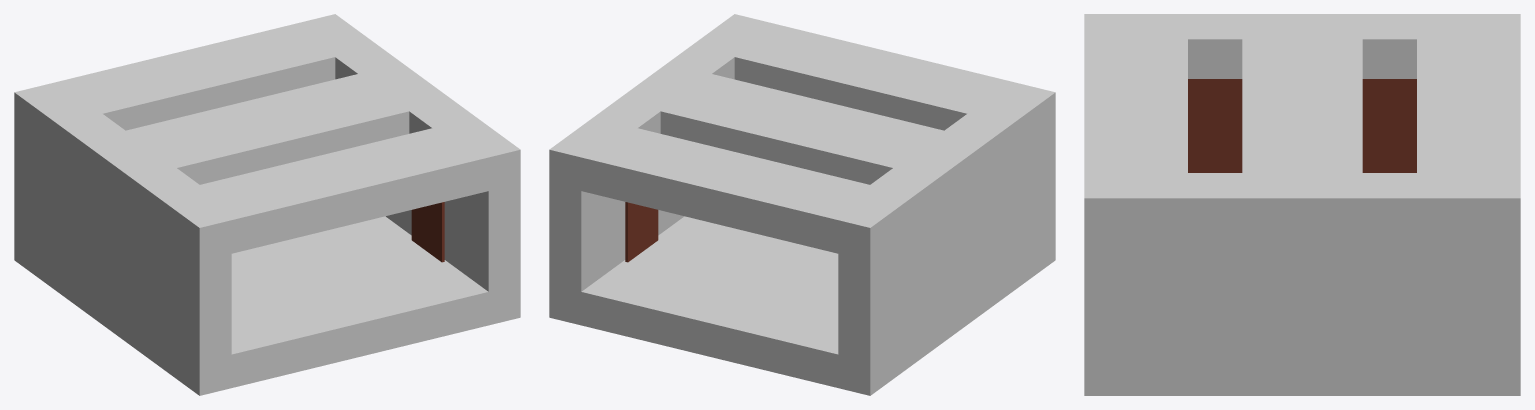
The model's file is ArtToaster.fbx.
The picture shows the model from 3 angles, left to right: view 1: azimuth 30°, elevation 25°; view 2: azimuth 150°, elevation 25°; view 3: azimuth 270°, elevation 25°; orthographic projection. The views are drawn at different scales.
Parts seen in each view (by area): view 1: Structure; view 2: Structure; view 3: Structure.
Part boxes in pixels (x1=…): Structure: x1=14, y1=14, x2=520, y2=395; Structure: x1=549, y1=14, x2=1055, y2=395; Structure: x1=1084, y1=14, x2=1520, y2=395.
Bounding box in the file's own units: 1000 × 500 × 1000.
